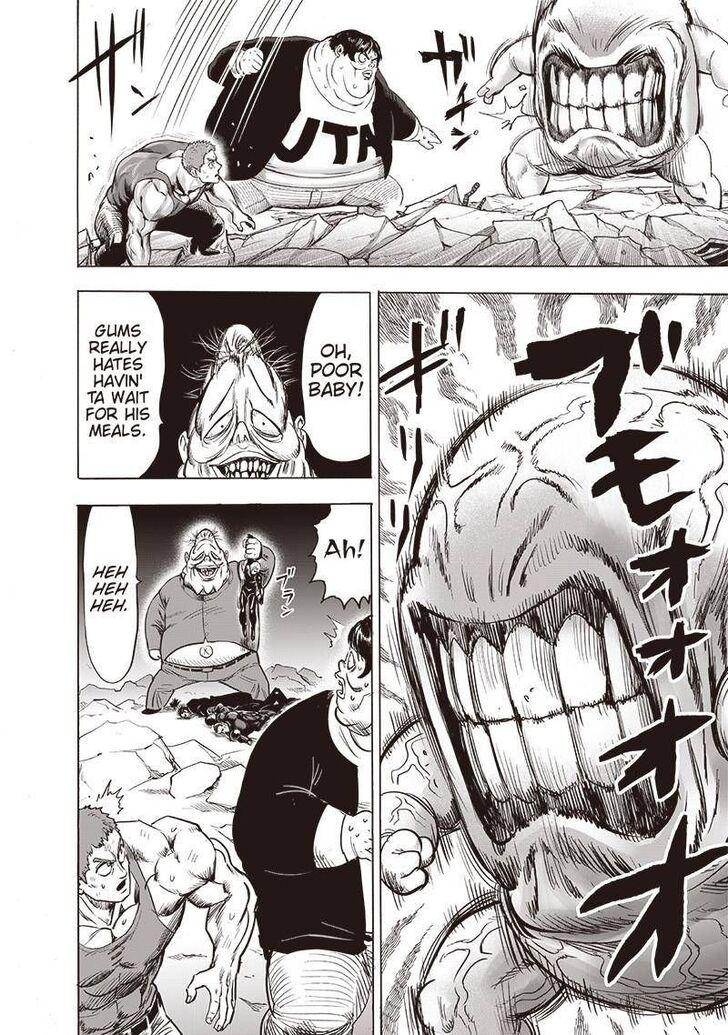Bubble: (76, 289, 167, 480), (296, 290, 373, 464), (82, 502, 140, 684), (307, 502, 374, 611)
